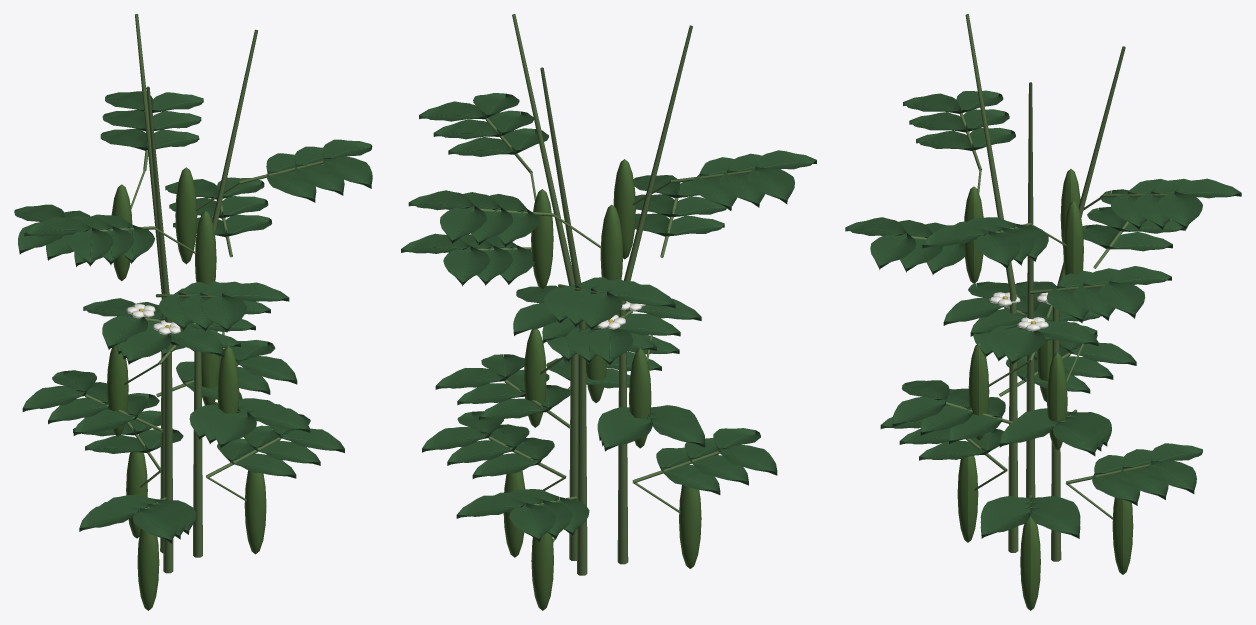
File: haba.glb
The picture shows the model from 3 angles, left to right: view 1: azimuth 30°, elevation 25°; view 2: azimuth 150°, elevation 25°; view 3: azimuth 270°, elevation 25°; orthographic projection. The views are drawn at different scales.
Parts seen in each view (by area): view 1: haba; view 2: haba; view 3: haba.
Boxes of the visible parts, box(x1,y1,x2,y2) form: haba: box(14, 14, 372, 610); haba: box(401, 14, 816, 610); haba: box(845, 14, 1241, 610).
Size of the model in its own units: 0.7188 by 1.03 by 0.6967.
